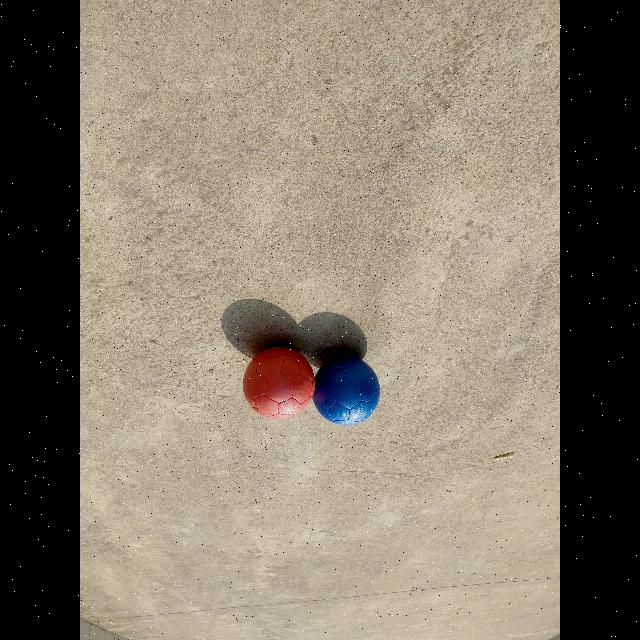B: (314, 356, 380, 426)
R: (243, 347, 315, 419)
